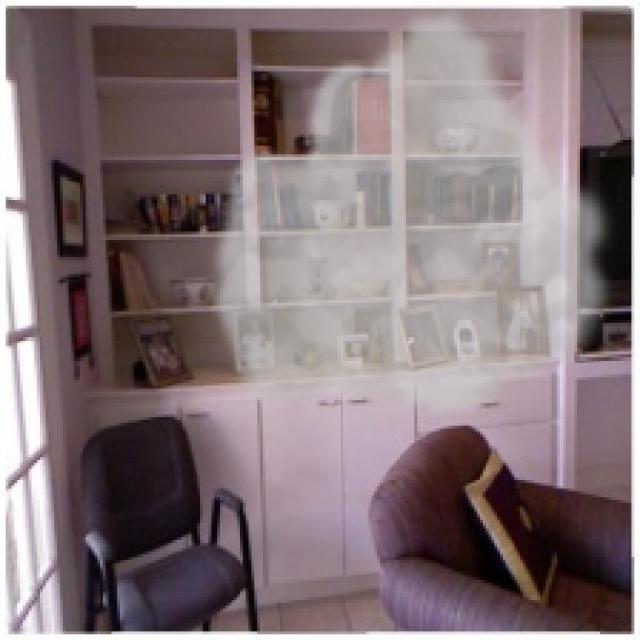Smoke: (203, 0, 623, 423)
